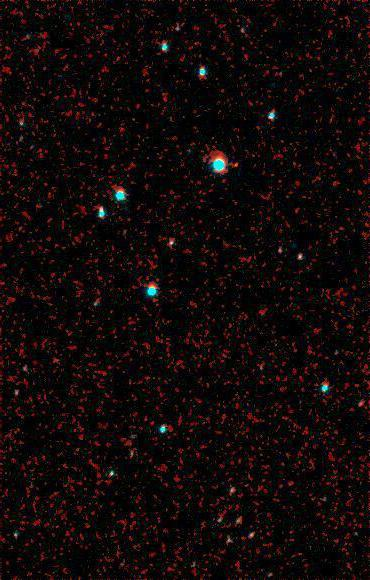star: (224, 144, 254, 174)
